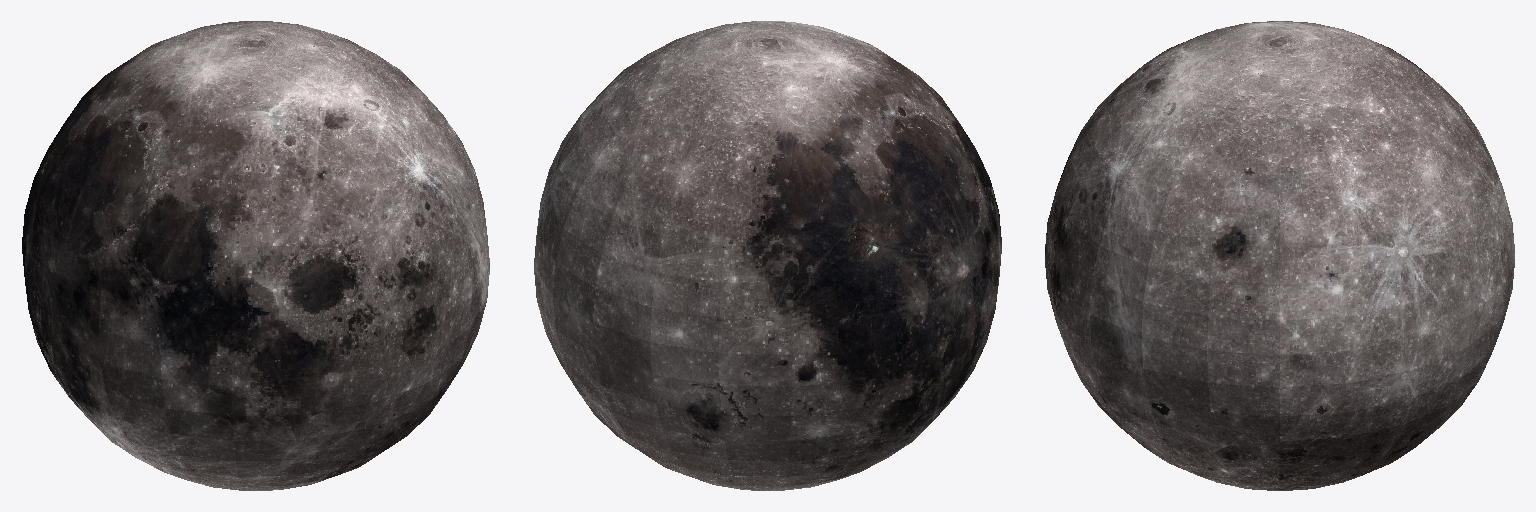
The picture shows the model from 3 angles: view 1: azimuth 30°, elevation 25°; view 2: azimuth 150°, elevation 25°; view 3: azimuth 270°, elevation 25°; orthographic projection.
Visible parts, largest first — view 1: Sphere; view 2: Sphere; view 3: Sphere.
Part boxes in pixels (left/top/right/bottom): Sphere: left=22, top=21, right=489, bottom=490; Sphere: left=534, top=21, right=1001, bottom=490; Sphere: left=1045, top=21, right=1514, bottom=490.
Bounding box in the file's own units: 1 × 1 × 1.
1 materials, 1 textured.